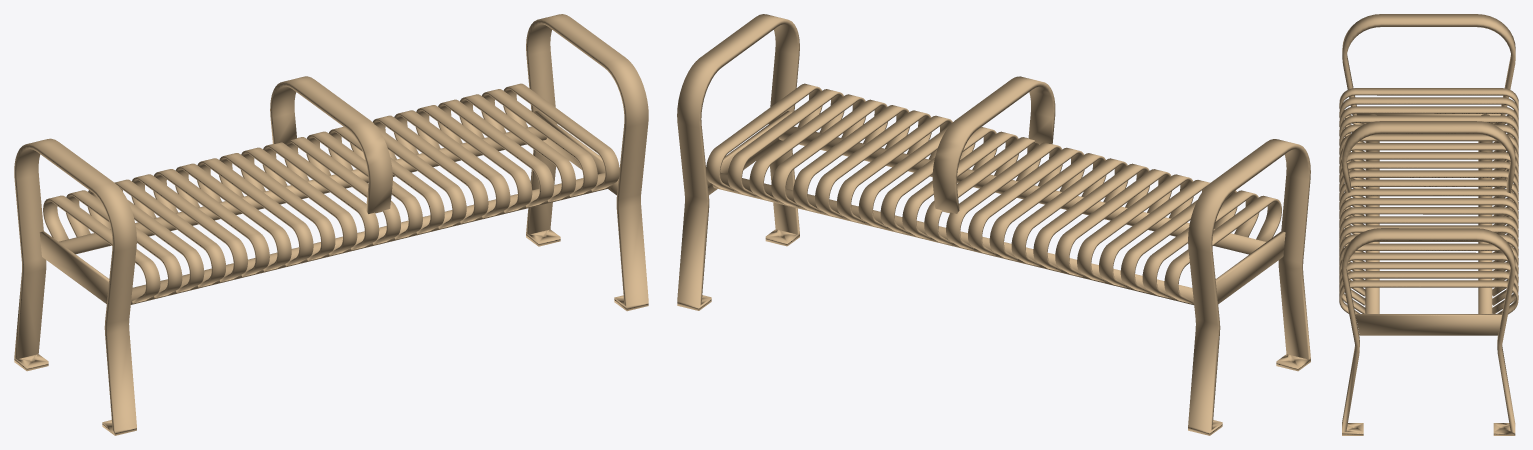
3 views of the same model, side by side, from view 1: azimuth 30°, elevation 25°; view 2: azimuth 150°, elevation 25°; view 3: azimuth 270°, elevation 25° (orthographic). The views are drawn at different scales.
Visible parts, largest first — view 1: mesh28_mesh28-geometry, mesh26_mesh26-geometry, mesh1_mesh1-geometry, mesh20_mesh20-geometry, mesh21_mesh21-geometry, mesh14_mesh14-geometry, mesh17_mesh17-geometry, mesh8_mesh8-geometry, mesh6_mesh6-geometry, mesh5_mesh5-geometry, mesh7_mesh7-geometry, mesh19_mesh19-geometry (+17 smaller); view 2: mesh28_mesh28-geometry, mesh26_mesh26-geometry, mesh1_mesh1-geometry, mesh21_mesh21-geometry, mesh20_mesh20-geometry, mesh14_mesh14-geometry, mesh22_mesh22-geometry, mesh19_mesh19-geometry, mesh18_mesh18-geometry, mesh25_mesh25-geometry, mesh7_mesh7-geometry, mesh12_mesh12-geometry (+17 smaller); view 3: mesh26_mesh26-geometry, mesh27_mesh27-geometry, mesh28_mesh28-geometry, mesh1_mesh1-geometry, mesh3_mesh3-geometry, mesh25_mesh25-geometry, mesh22_mesh22-geometry, mesh23_mesh23-geometry, mesh24_mesh24-geometry, mesh14_mesh14-geometry, mesh2_mesh2-geometry, mesh10_mesh10-geometry (+17 smaller).
Part boxes in pixels (x1,y1,x2,y2): mesh28_mesh28-geometry: [14, 138, 136, 435]; mesh26_mesh26-geometry: [526, 14, 648, 311]; mesh1_mesh1-geometry: [270, 76, 392, 213]; mesh20_mesh20-geometry: [131, 172, 613, 304]; mesh21_mesh21-geometry: [59, 126, 546, 254]; mesh14_mesh14-geometry: [43, 195, 160, 303]; mesh17_mesh17-geometry: [175, 163, 291, 271]; mesh8_mesh8-geometry: [394, 110, 510, 218]; mesh6_mesh6-geometry: [415, 105, 532, 212]; mesh5_mesh5-geometry: [241, 147, 357, 255]; mesh7_mesh7-geometry: [219, 153, 335, 260]; mesh19_mesh19-geometry: [197, 158, 313, 266]; mesh28_mesh28-geometry: [1188, 139, 1310, 435]; mesh26_mesh26-geometry: [677, 14, 799, 310]; mesh1_mesh1-geometry: [932, 76, 1055, 213]; mesh21_mesh21-geometry: [712, 172, 1193, 304]; mesh20_mesh20-geometry: [778, 126, 1265, 254]; mesh14_mesh14-geometry: [1164, 195, 1281, 303]; mesh22_mesh22-geometry: [749, 94, 866, 202]; mesh19_mesh19-geometry: [1011, 158, 1128, 266]; mesh18_mesh18-geometry: [1055, 169, 1171, 276]; mesh25_mesh25-geometry: [727, 89, 844, 196]; mesh7_mesh7-geometry: [989, 153, 1106, 260]; mesh12_mesh12-geometry: [1077, 174, 1193, 282]; mesh26_mesh26-geometry: [1342, 228, 1515, 435]; mesh27_mesh27-geometry: [1355, 314, 1501, 335]; mesh28_mesh28-geometry: [1342, 14, 1515, 219]; mesh1_mesh1-geometry: [1342, 121, 1515, 193]; mesh3_mesh3-geometry: [1339, 188, 1518, 225]; mesh25_mesh25-geometry: [1339, 271, 1518, 313]; mesh22_mesh22-geometry: [1339, 262, 1518, 305]; mesh23_mesh23-geometry: [1339, 252, 1518, 296]; mesh24_mesh24-geometry: [1339, 280, 1518, 314]; mesh14_mesh14-geometry: [1339, 88, 1518, 124]; mesh2_mesh2-geometry: [1339, 198, 1518, 234]; mesh10_mesh10-geometry: [1339, 216, 1518, 252].
Size of the model in its own units: 0.8813 by 0.3655 by 0.2995.
